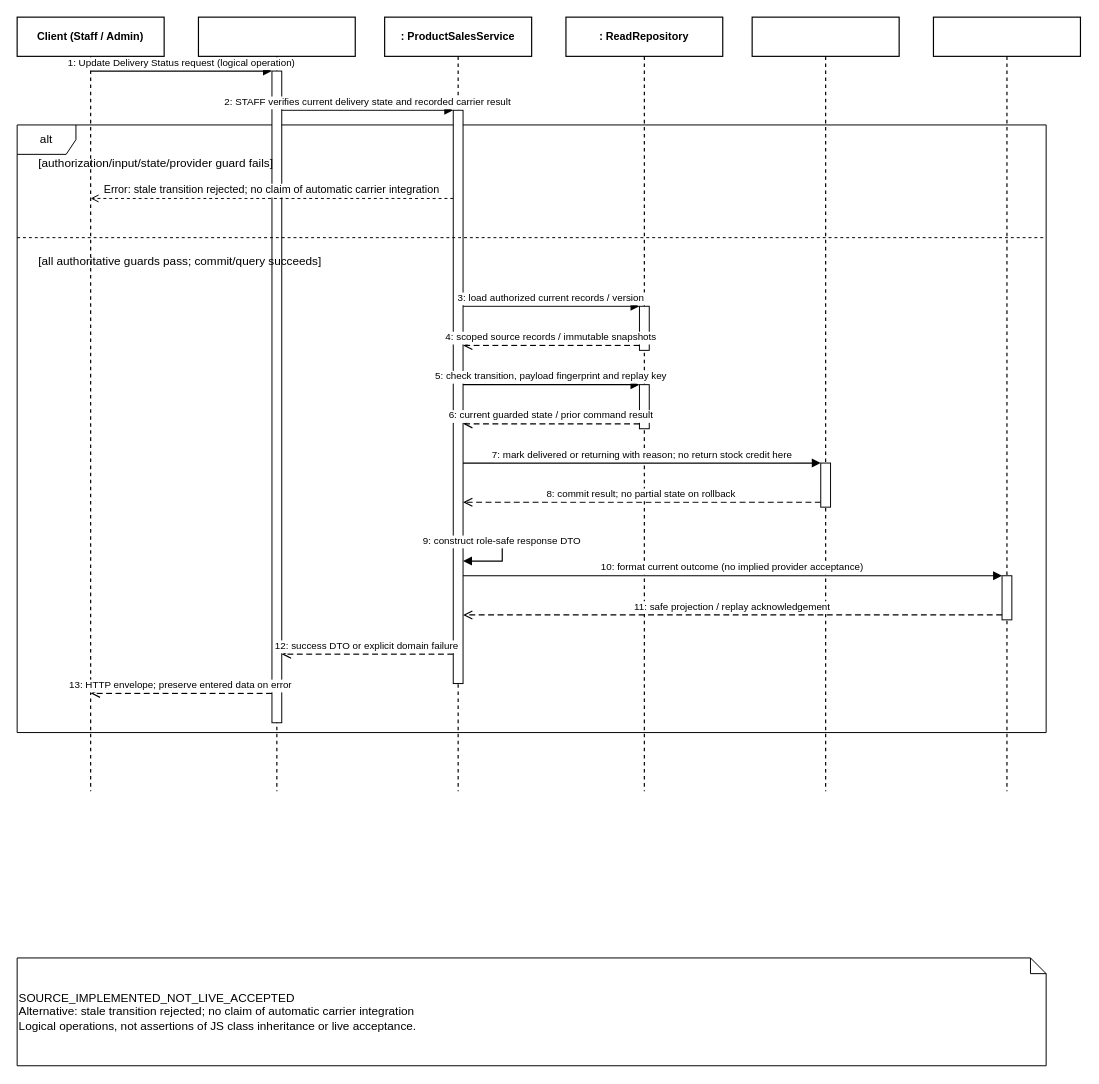
The diagram is 1099 pixels wide and 1084 high, and some of its shapes have lost their labels. The box of each missing label's shape, as (x1, y1, x2, y2) in pixels:
: ProductSalesHttpBoundary: (197, 16, 355, 791)
: ResultProjection: (932, 16, 1081, 791)
: TransactionRepository: (751, 16, 899, 791)
